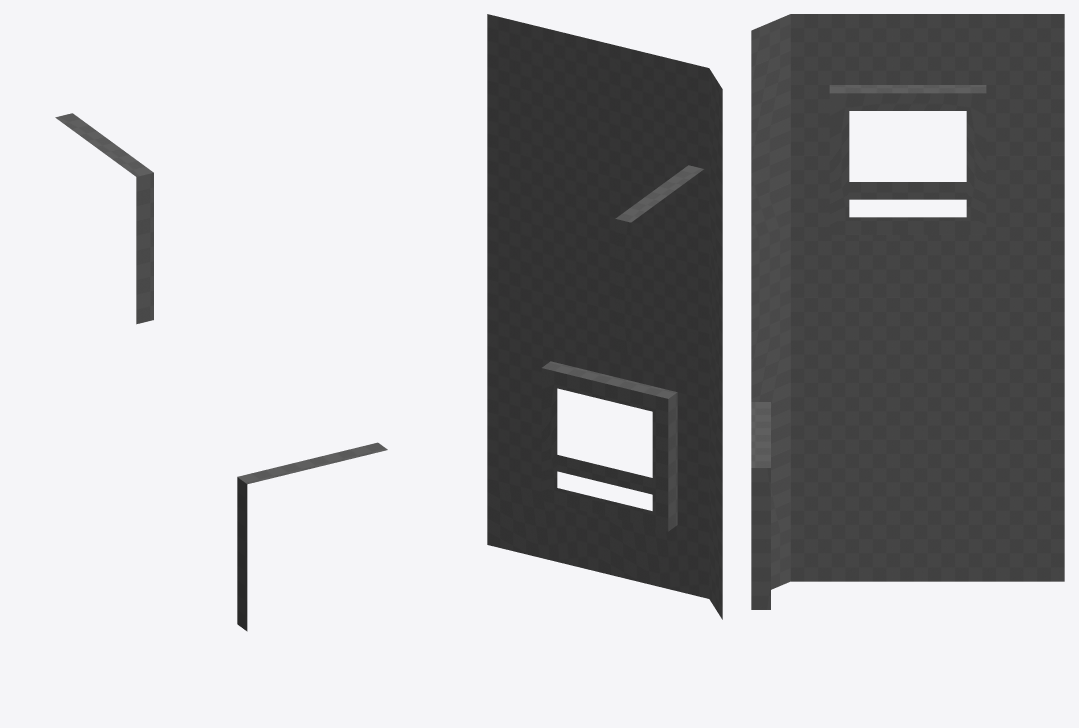
3 views of the same model, side by side, from view 1: azimuth 30°, elevation 25°; view 2: azimuth 150°, elevation 25°; view 3: azimuth 270°, elevation 25° (orthographic). The views are drawn at different scales.
Parts seen in each view (by area): view 1: 2; view 2: 2; view 3: 2.
Boxes of the visible parts, x1=… form: 2: x1=55, y1=113, x2=387, y2=631; 2: x1=487, y1=14, x2=722, y2=619; 2: x1=751, y1=14, x2=1064, y2=609.
Bounding box in the file's own units: 2 × 4 × 2.
Materials: 2 (2 with a texture image).
